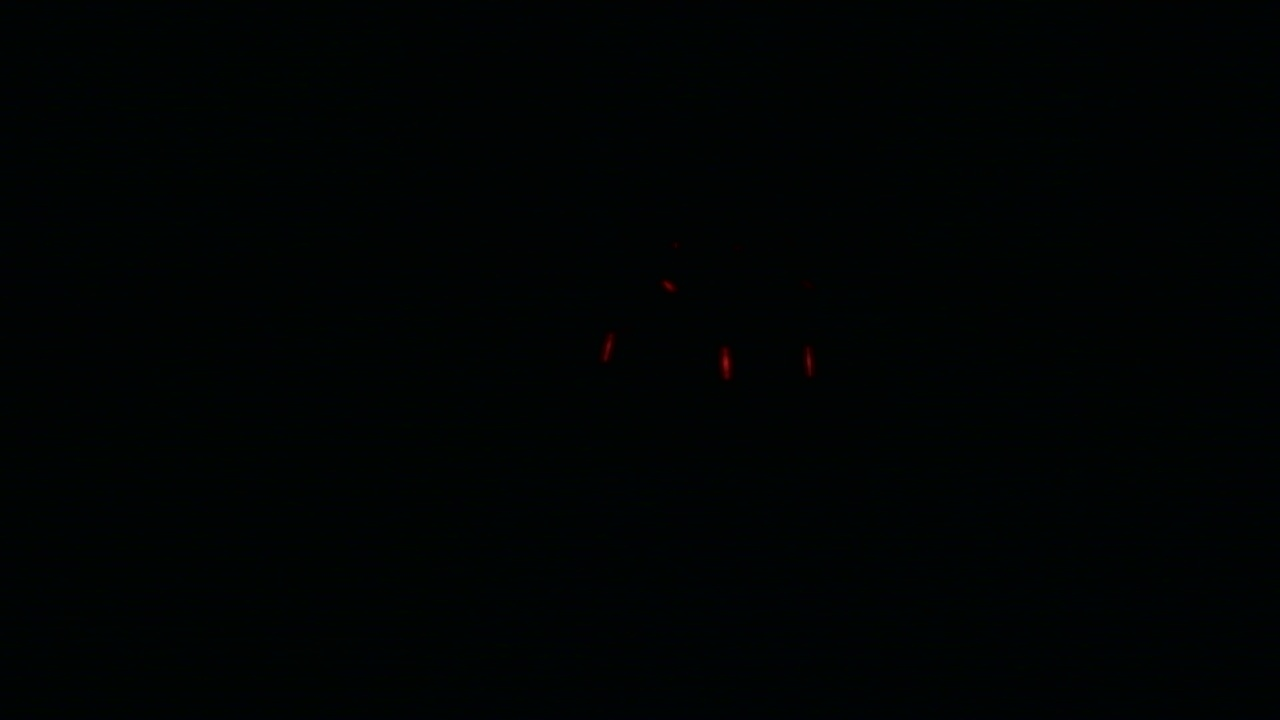lamp: (596, 326, 609, 382), (714, 343, 731, 378), (802, 345, 812, 378)
notpair1: (597, 327, 732, 383)
pair1: (716, 345, 812, 381)
